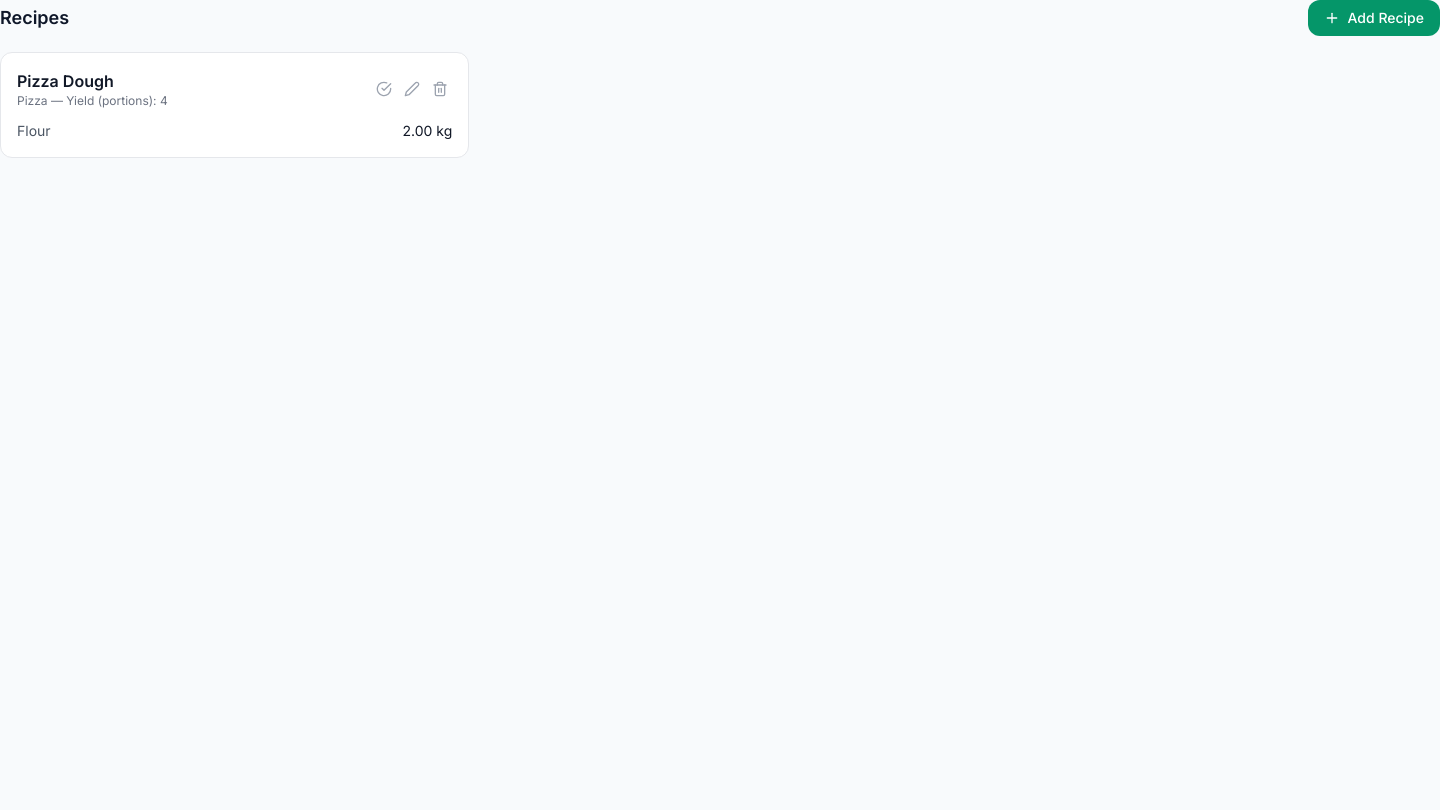
Scenario: RecipesTab › runs a stock check and shows the result modal
// First action button is "check stock".
Click the button named "Check Stock": (384, 89) [372,77,396,101]
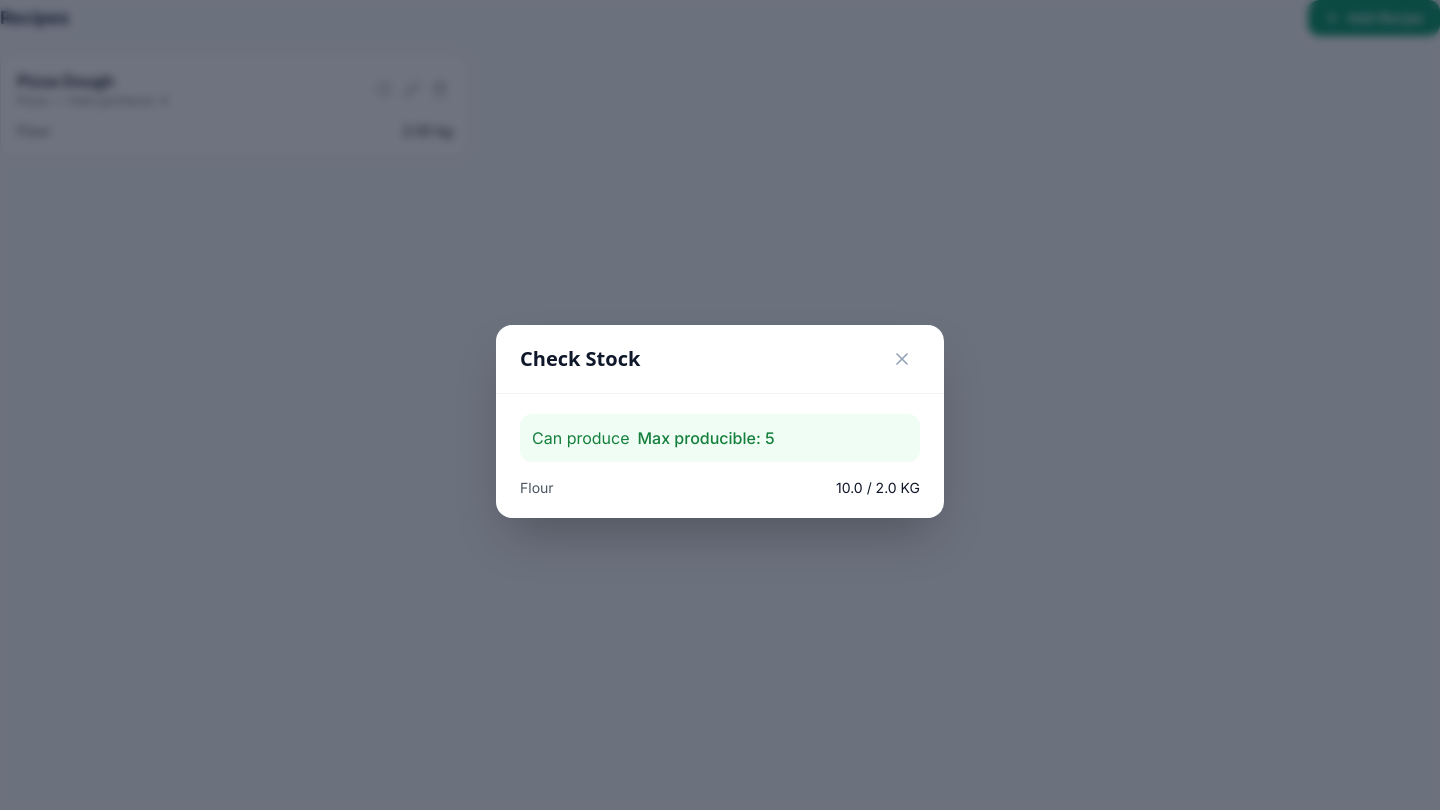
Expected: the text "Max producible: 5" is shown, [638,428,775,448]
Expected: the text "10.0 / 2.0 KG" is shown, [836,478,920,498]
